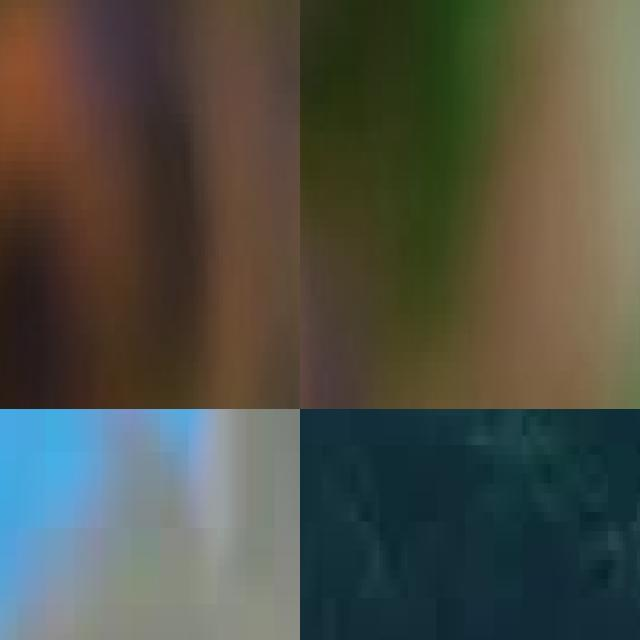fish: (0, 0, 300, 409), (421, 0, 640, 409)
